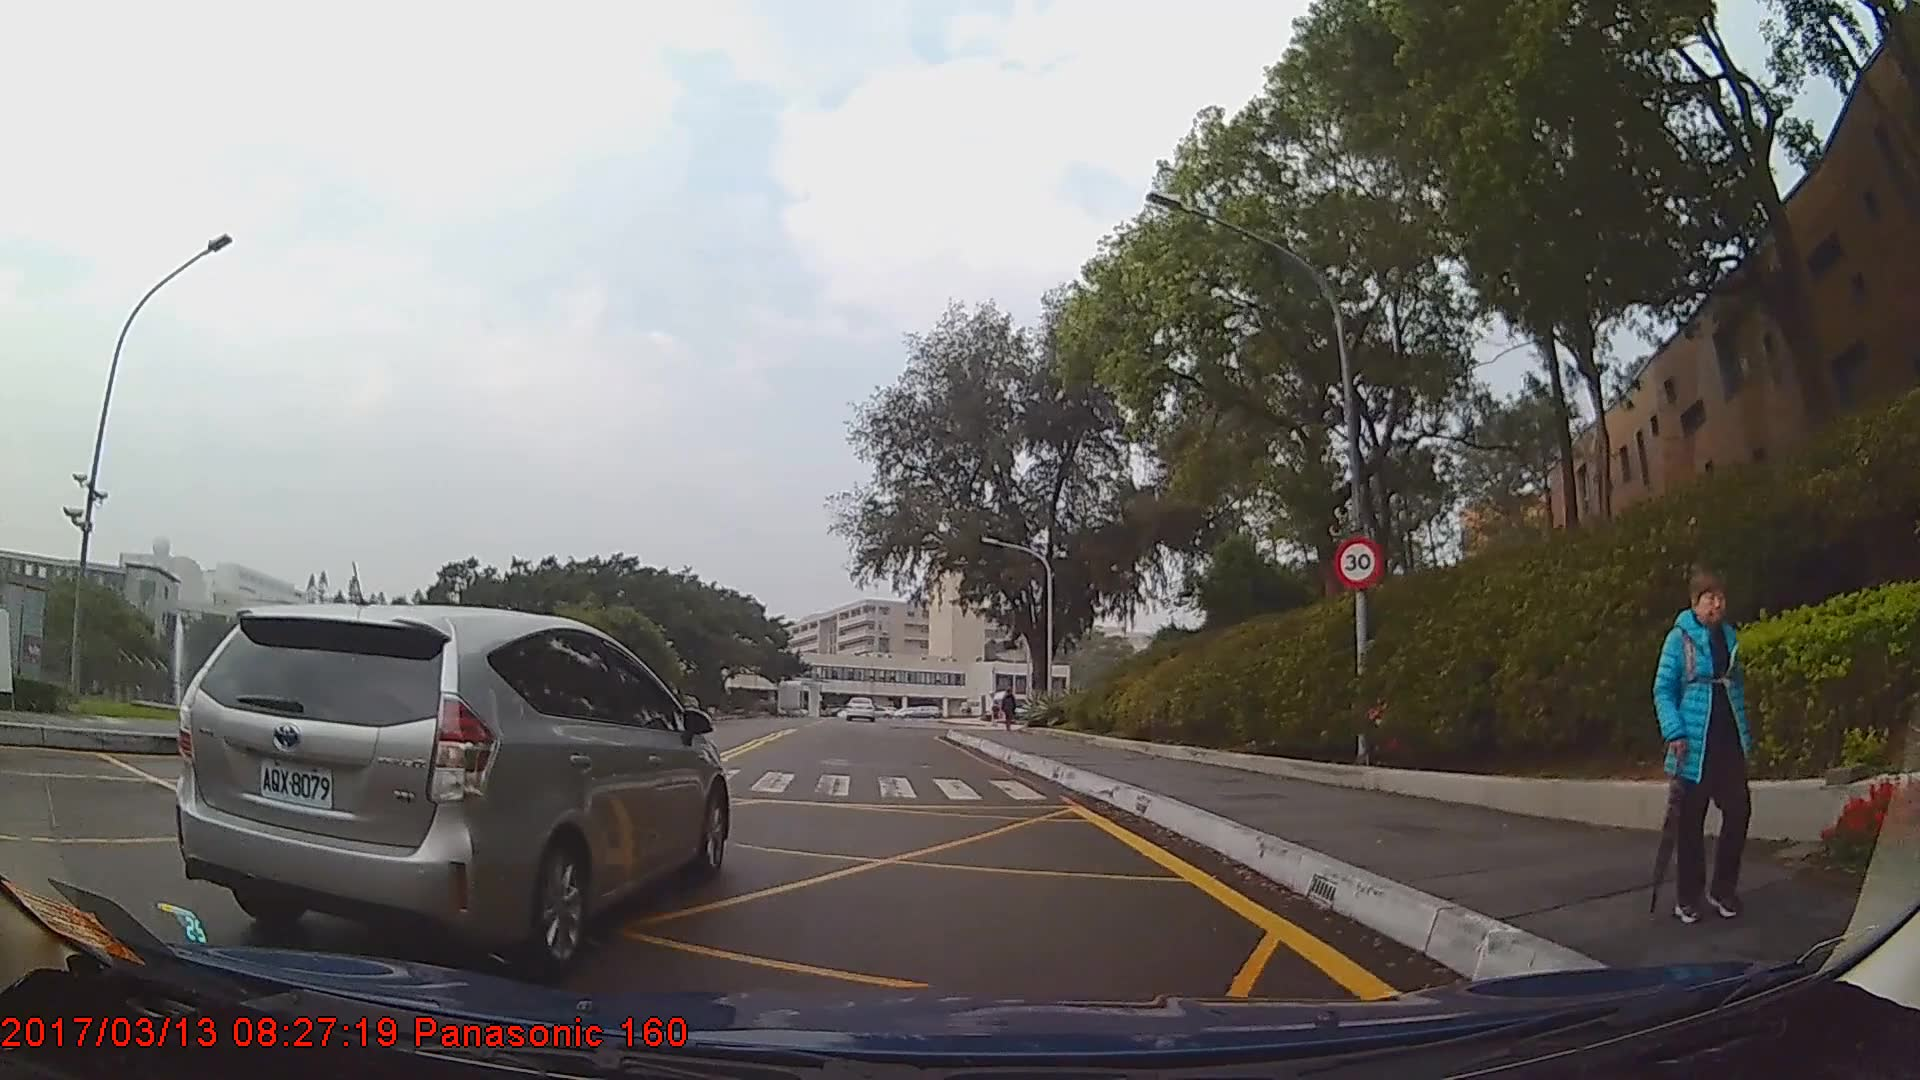pedestrian: (1657, 563, 1766, 924), (1001, 689, 1021, 733)
vehicle: (174, 602, 730, 977), (844, 694, 874, 721)
